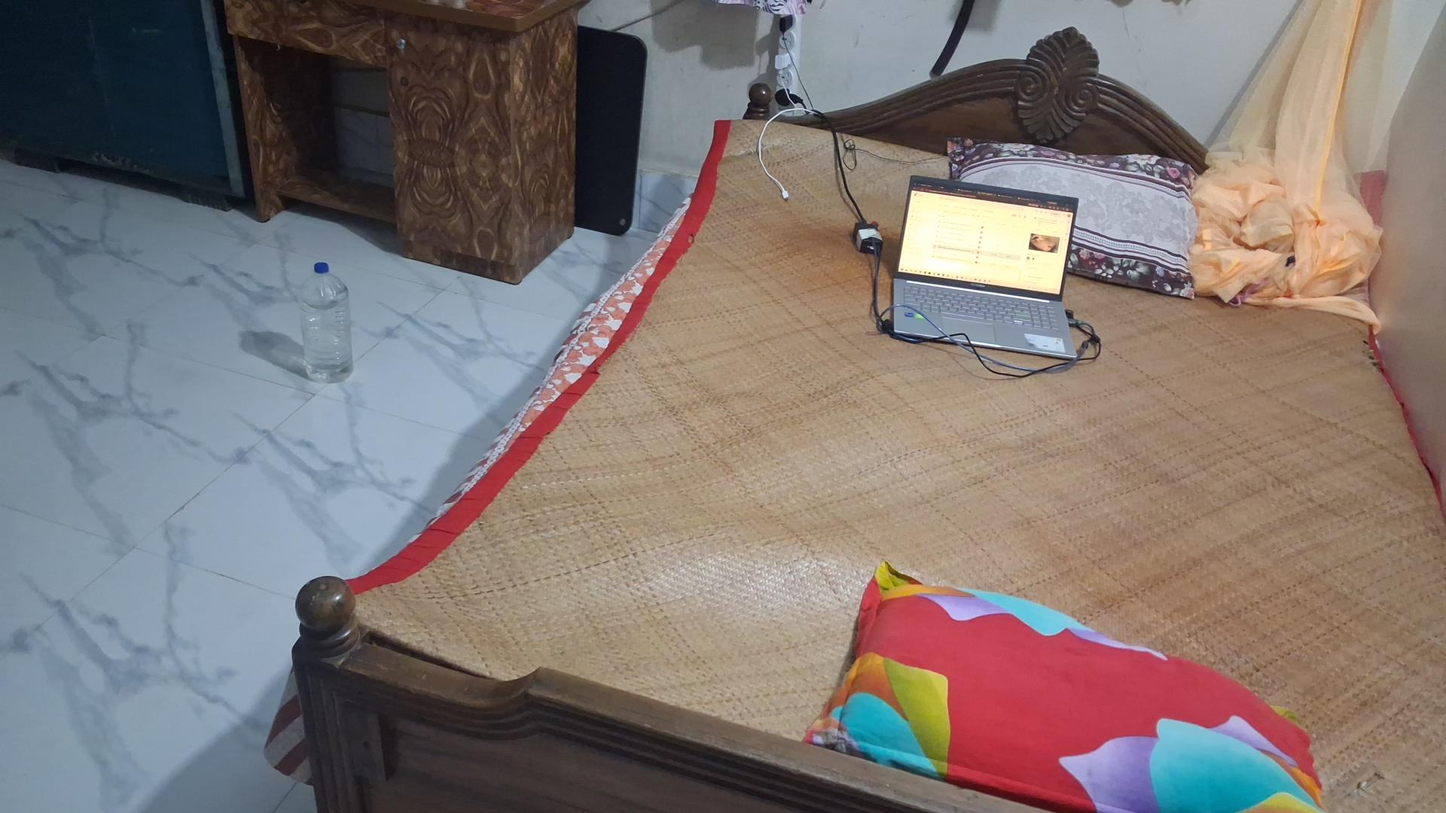Bottle: (298, 261, 352, 382)
Laptop: (891, 175, 1080, 359)
Pillow: (825, 534, 1346, 813), (938, 123, 1205, 297)
